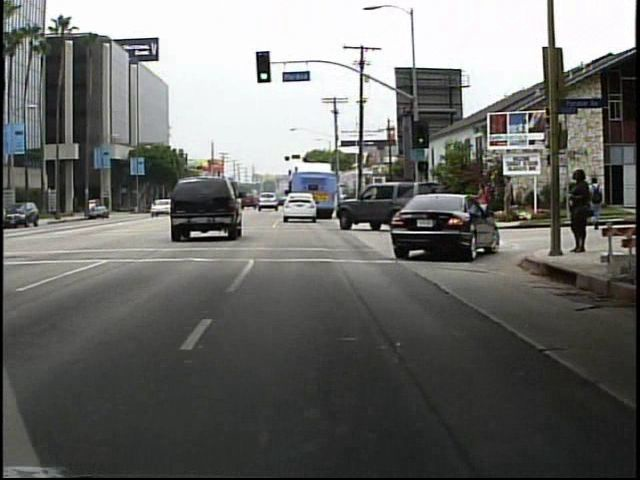person: (561, 164, 589, 257), (587, 172, 606, 232), (499, 175, 517, 222), (475, 178, 495, 209)
